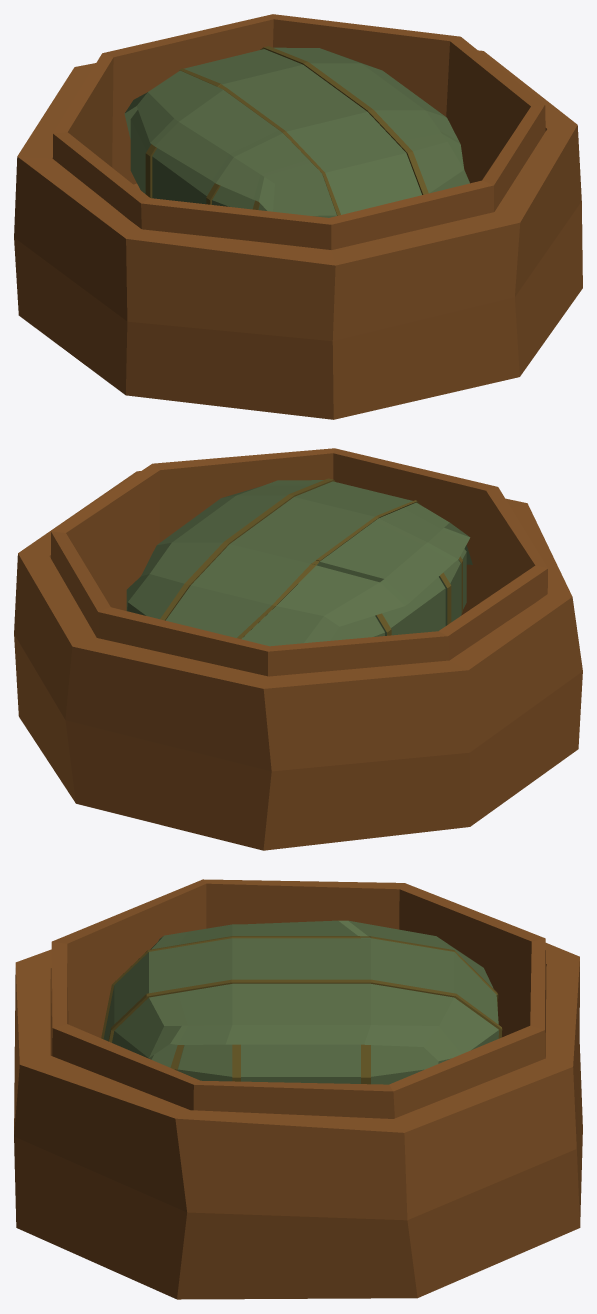
File: Lotus_Leaf_Sticky_Rice_-_Wrapped.fbx
The picture shows the model from 3 angles, top to bottom: view 1: azimuth 30°, elevation 25°; view 2: azimuth 150°, elevation 25°; view 3: azimuth 270°, elevation 25°; orthographic projection. The views are drawn at different scales.
Parts seen in each view (by area): view 1: Cylinder.005; view 2: Cylinder.005; view 3: Cylinder.005.
Boxes of the visible parts, left/top/right/bottom form: Cylinder.005: left=14, top=14, right=582, bottom=419; Cylinder.005: left=14, top=448, right=582, bottom=850; Cylinder.005: left=14, top=879, right=582, bottom=1299.
Bounding box in the file's own units: 192 × 81.49 × 190.
